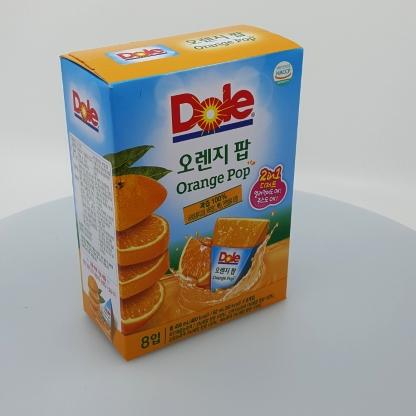--------496ML: (59, 24, 304, 362)
